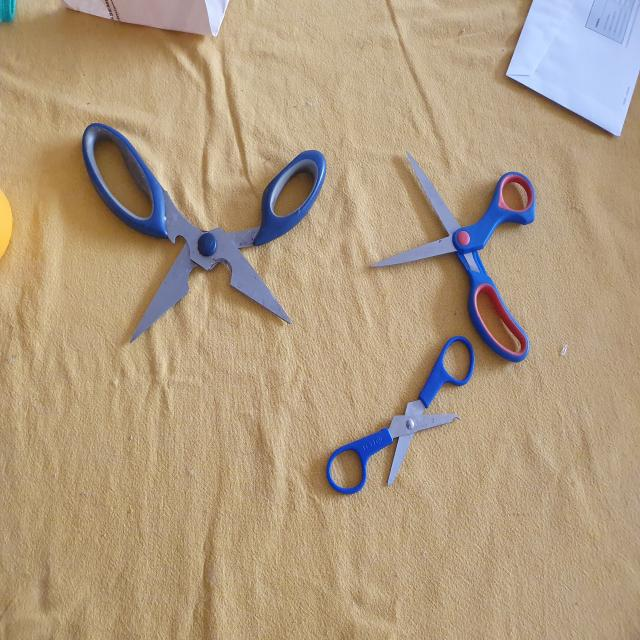scissors: (78, 117, 332, 341), (367, 148, 540, 360), (324, 329, 480, 496)
